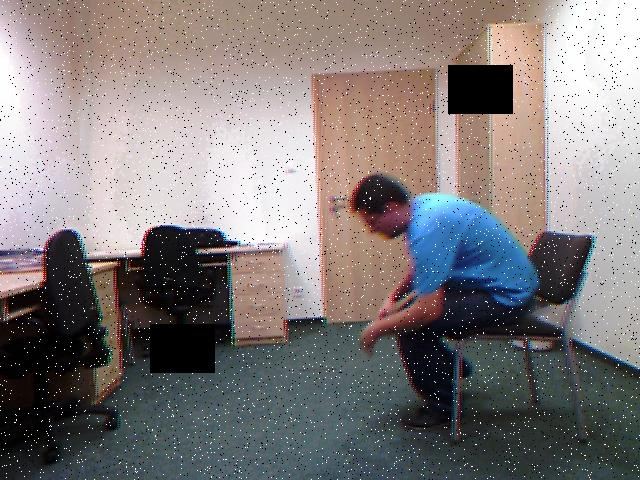near-fall: (350, 174, 539, 429)
